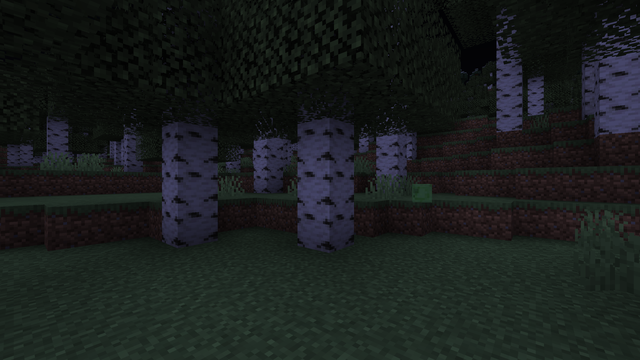slimes: (409, 183, 433, 202)
